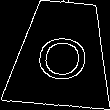O_N: (33, 26, 91, 81)
